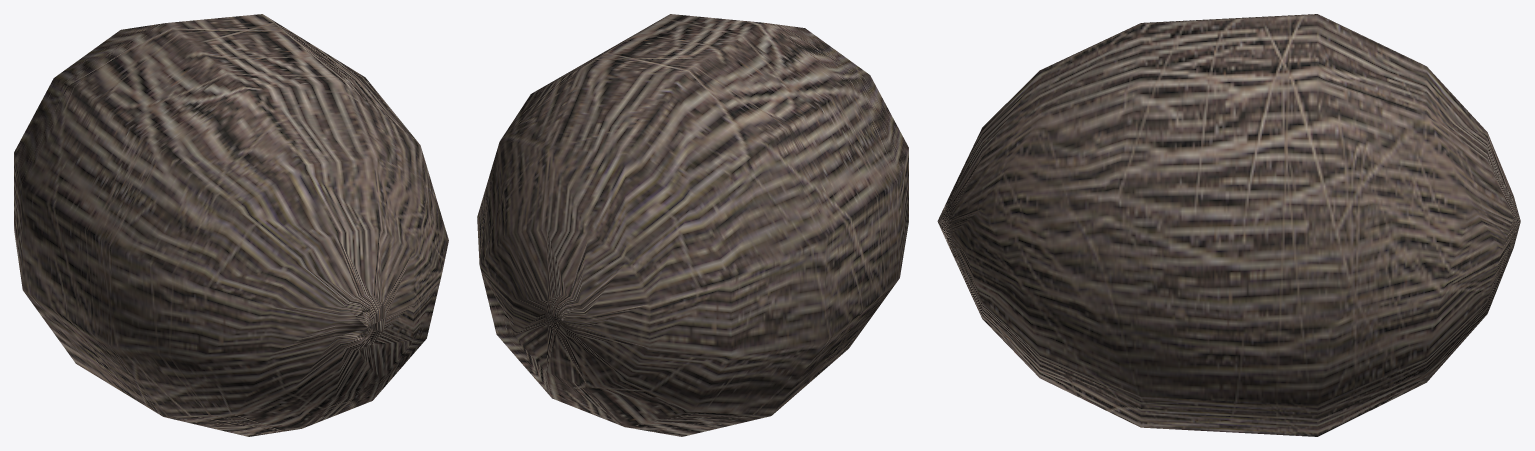
File: coconut.glb
3 renders of one model, left to right at view 1: azimuth 30°, elevation 25°; view 2: azimuth 150°, elevation 25°; view 3: azimuth 270°, elevation 25°, orthographic. The views are drawn at different scales.
Parts seen in each view (by area): view 1: Object; view 2: Object; view 3: Object.
Part boxes in pixels (x1,y1,x2,y2): Object: (14,14,448,436); Object: (477,14,908,436); Object: (937,14,1520,436).
Size of the model in its own units: 0.2607 by 0.26 by 0.3551.
Materials: 1 (1 with a texture image).
